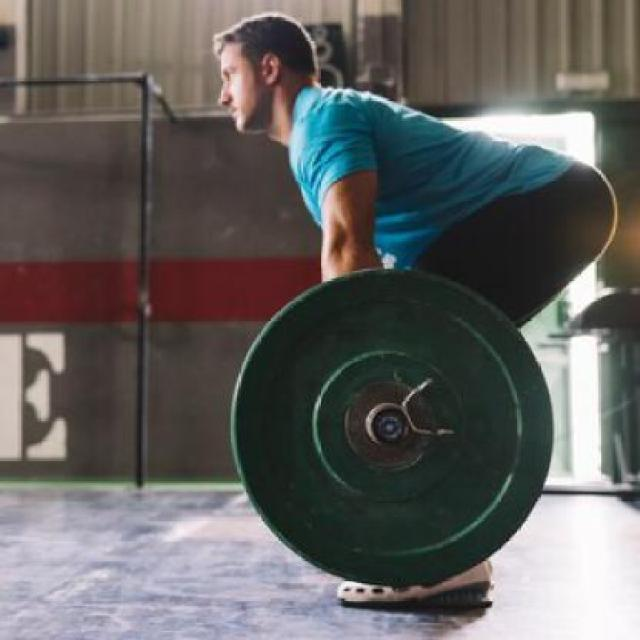barbell: (221, 259, 573, 591)
